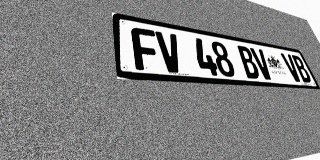4: (191, 37, 220, 76)
8: (209, 40, 237, 77)
B: (236, 45, 262, 79), (290, 55, 313, 83)
F: (131, 26, 161, 72)
V: (155, 31, 185, 73), (250, 47, 275, 80), (280, 53, 303, 82)
